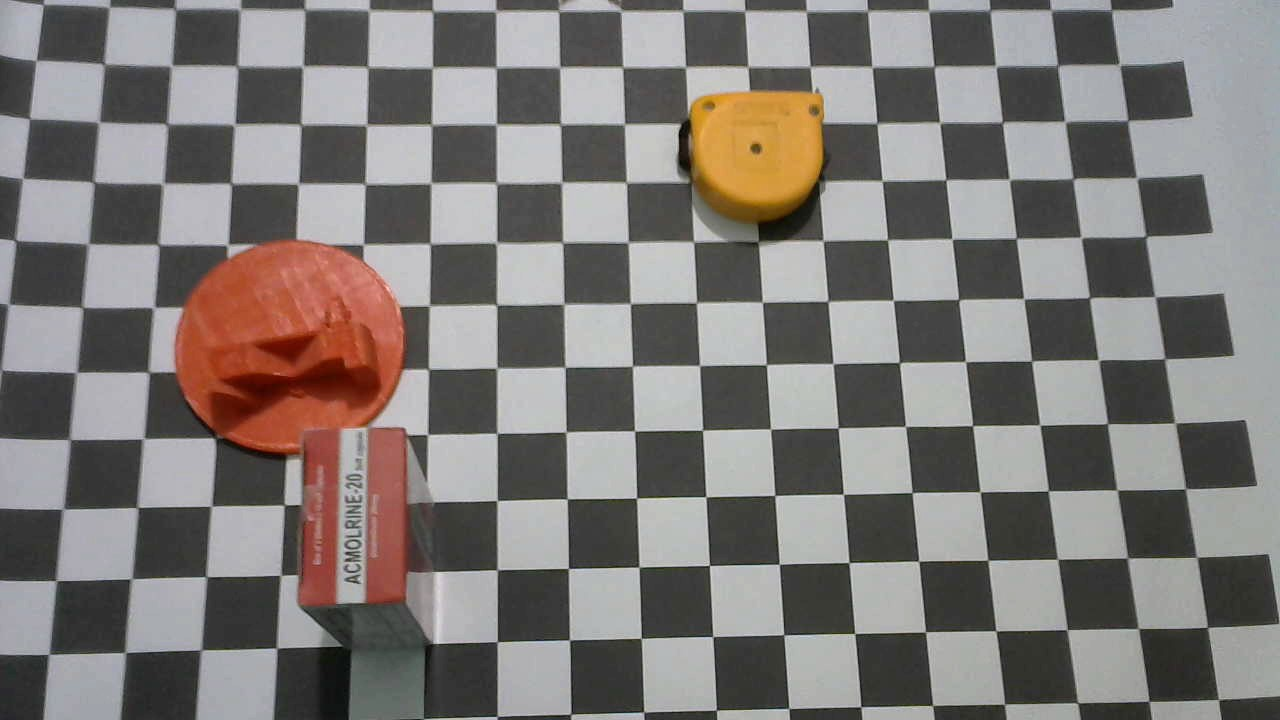blue: (677, 88, 827, 222)
green: (171, 241, 405, 456)
red: (298, 427, 437, 645)
